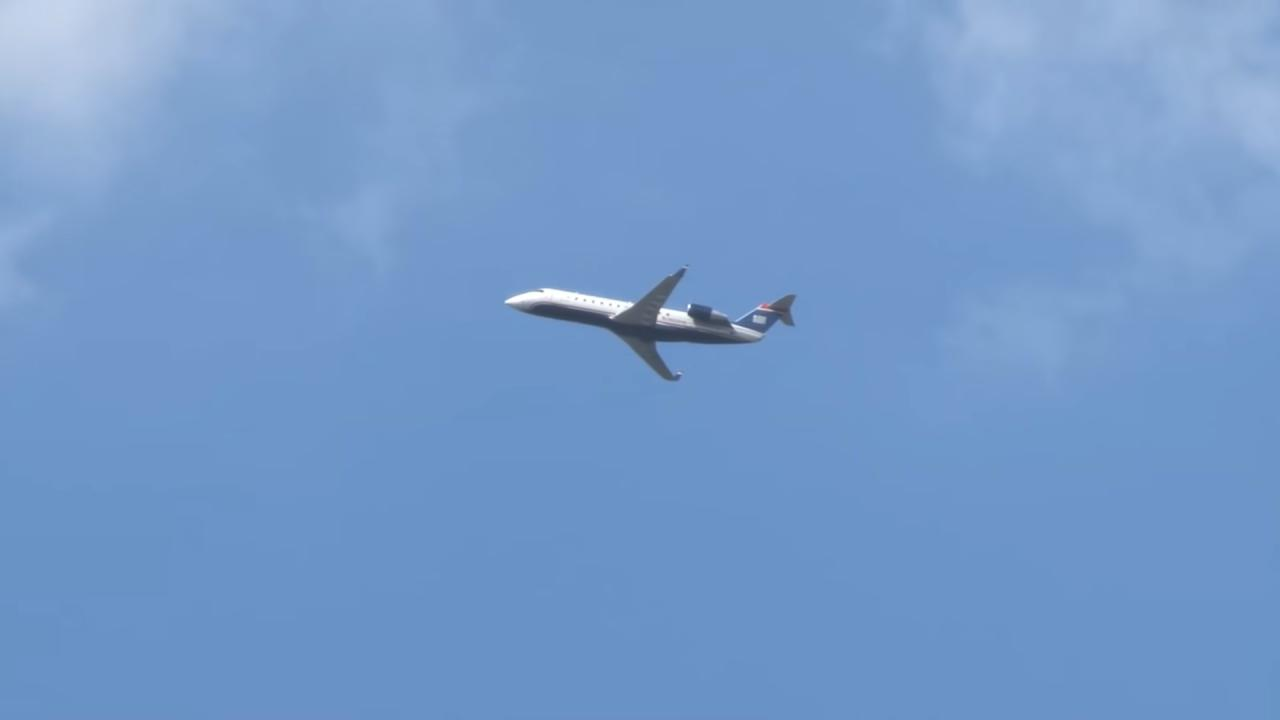Airplane: (498, 256, 810, 391)
